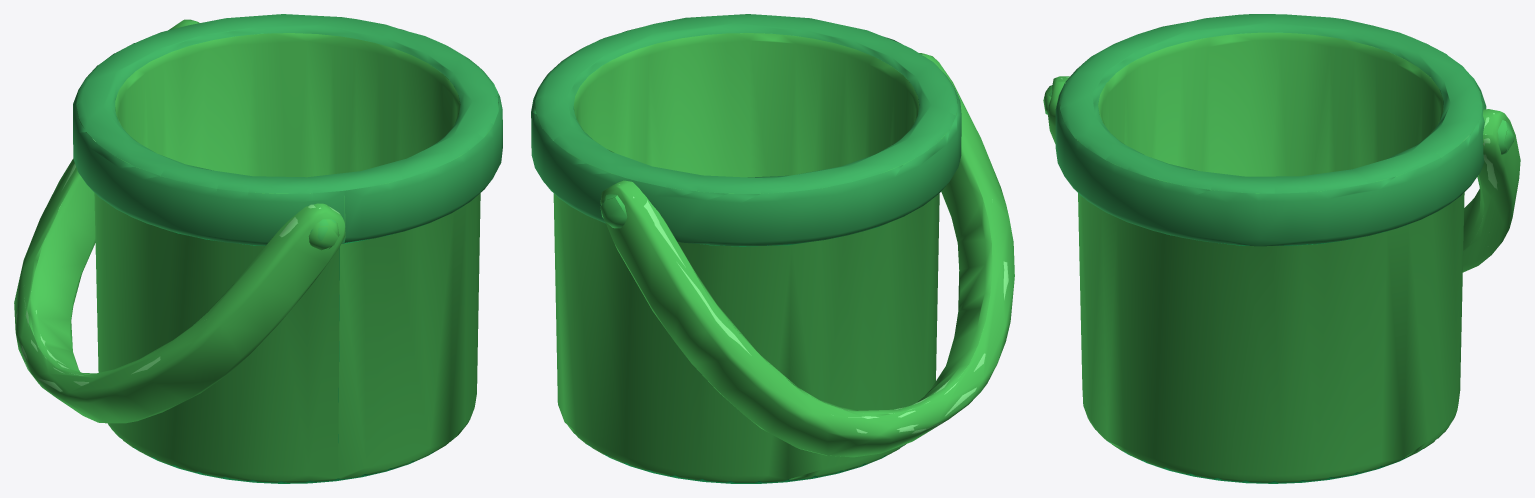
Rendered from sceau.glb.
The picture shows the model from 3 angles, left to right: view 1: azimuth 30°, elevation 25°; view 2: azimuth 150°, elevation 25°; view 3: azimuth 270°, elevation 25°; orthographic projection.
Visible parts, largest first — view 1: Object_8; view 2: Object_8; view 3: Object_8.
Part boxes in pixels (<box>): Object_8: <box>14,14,502,483</box>; Object_8: <box>531,14,1014,483</box>; Object_8: <box>1043,14,1520,483</box>.
Bounding box in the file's own units: 0.4868 × 0.3431 × 0.4833.
